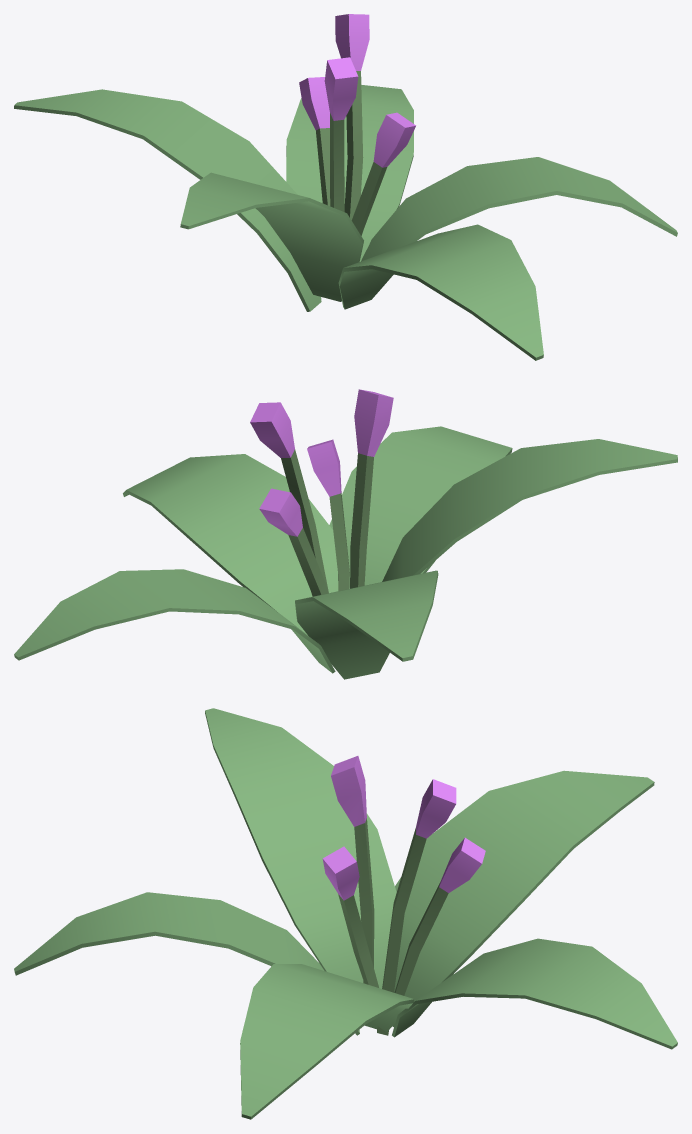
Rendered from Plants_Pack_Flower_02.002.fbx.
3 views of the same model, one above another, from view 1: azimuth 30°, elevation 25°; view 2: azimuth 150°, elevation 25°; view 3: azimuth 270°, elevation 25° (orthographic). The views are drawn at different scales.
Visible parts, largest first — view 1: Plants_Pack_Flower_02.002; view 2: Plants_Pack_Flower_02.002; view 3: Plants_Pack_Flower_02.002.
Part boxes in pixels (x1,y1,x2,y2): Plants_Pack_Flower_02.002: (14,14,677,360); Plants_Pack_Flower_02.002: (14,389,677,679); Plants_Pack_Flower_02.002: (14,708,677,1119).
Size of the model in its own units: 115 by 56.65 by 124.
